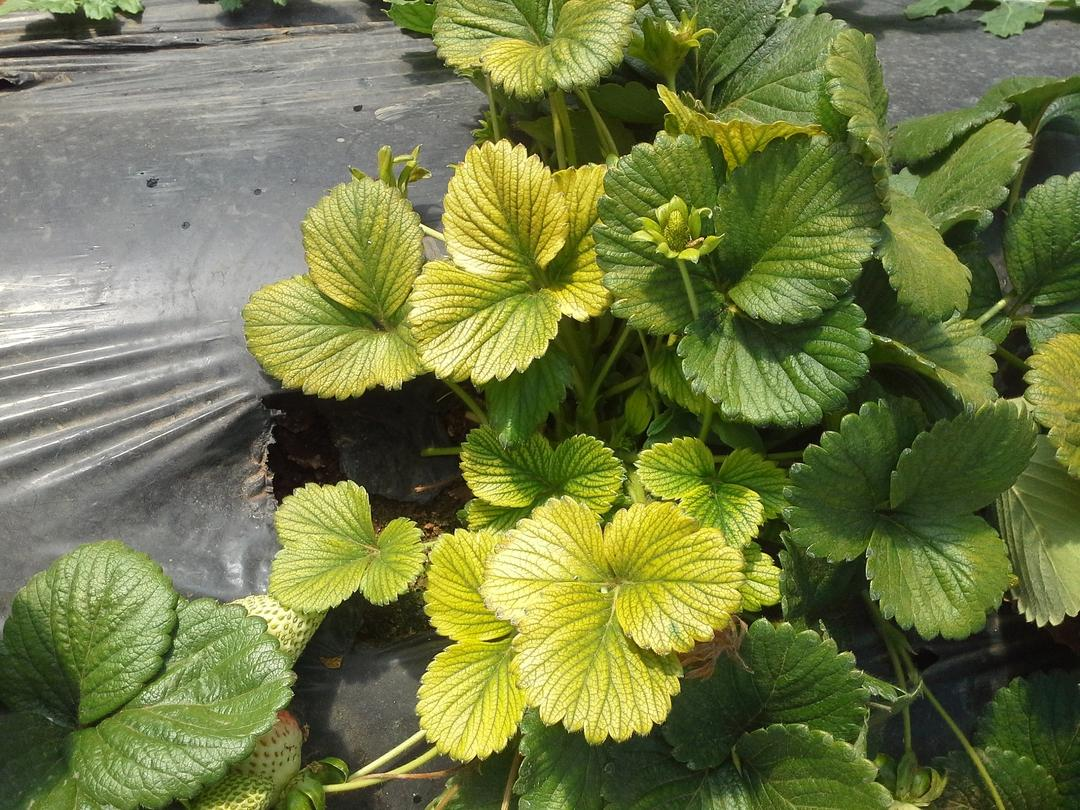Strawberry leaf: (55, 581, 302, 795), (487, 491, 685, 741), (6, 534, 170, 724), (236, 281, 442, 401), (604, 487, 742, 654), (436, 134, 569, 297), (296, 171, 425, 326), (263, 473, 376, 617), (412, 637, 526, 766), (362, 517, 426, 606)
